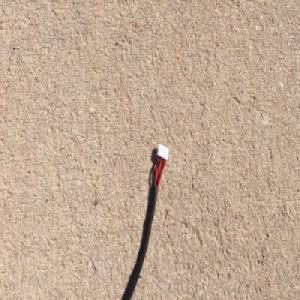Wire: (118, 139, 170, 300)
